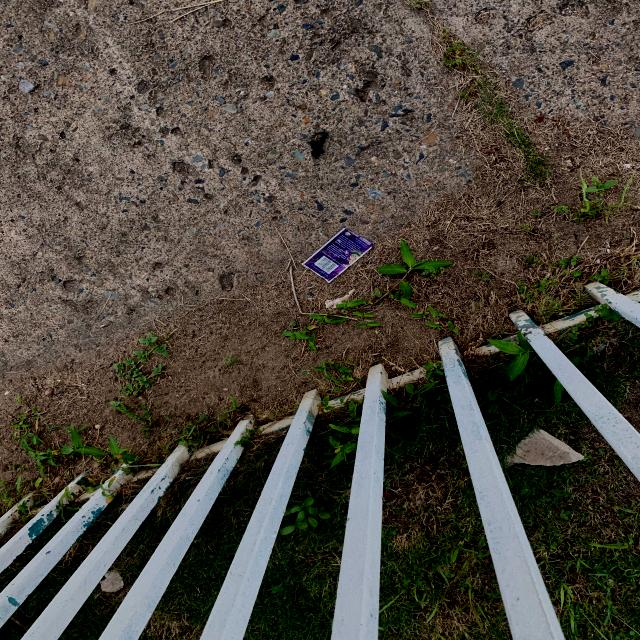Other plastic: (302, 228, 374, 283)
